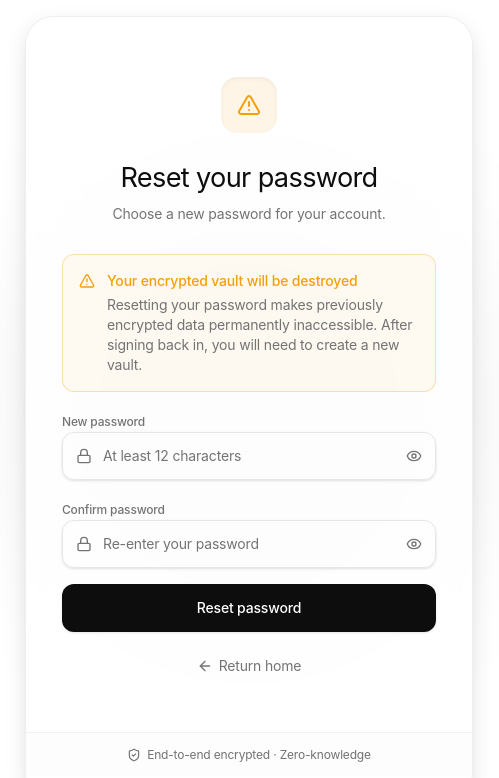
Test: ResetPasswordContent › resets a password when opened with a token
Check: the password field labelled "Confirm password" is shown, box [62,520,436,568]
Type "new-password-123" into the password field labelled "New password" at x=249, y=456, box [62,432,436,480]
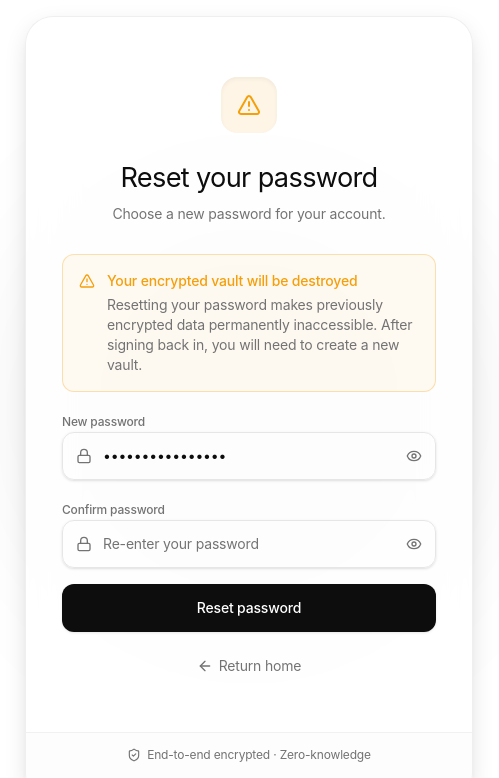
Type "new-password-123" into the password field labelled "Confirm password" at x=249, y=544, box [62,520,436,568]
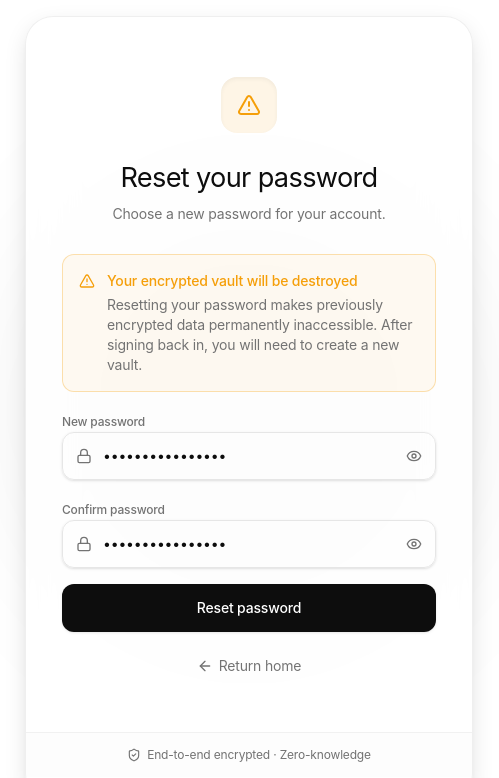
Click the button "Reset password" at x=249, y=608, box [62,584,436,632]
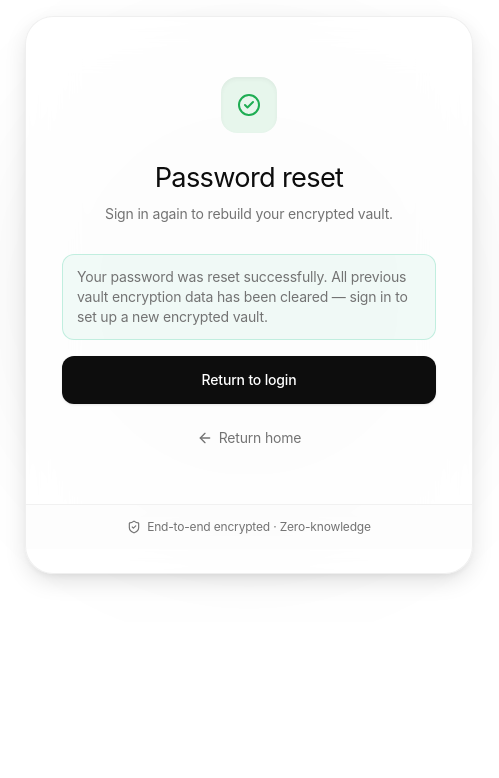
Check: the heading "Password reset" is shown, box [155,161,343,195]
